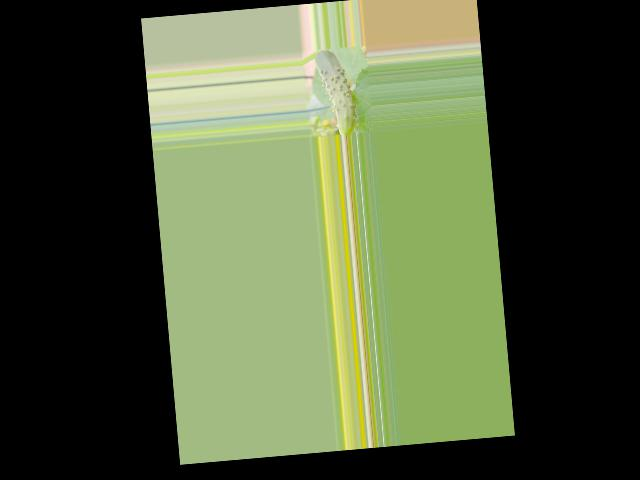cucumber: (315, 47, 358, 136)
